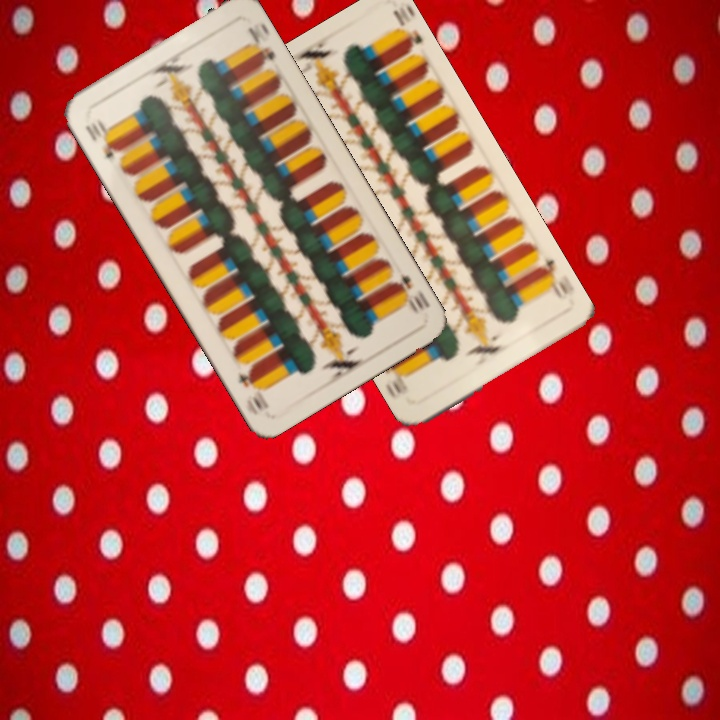E10: (387, 268, 433, 317), (531, 255, 571, 303), (81, 115, 122, 161)
